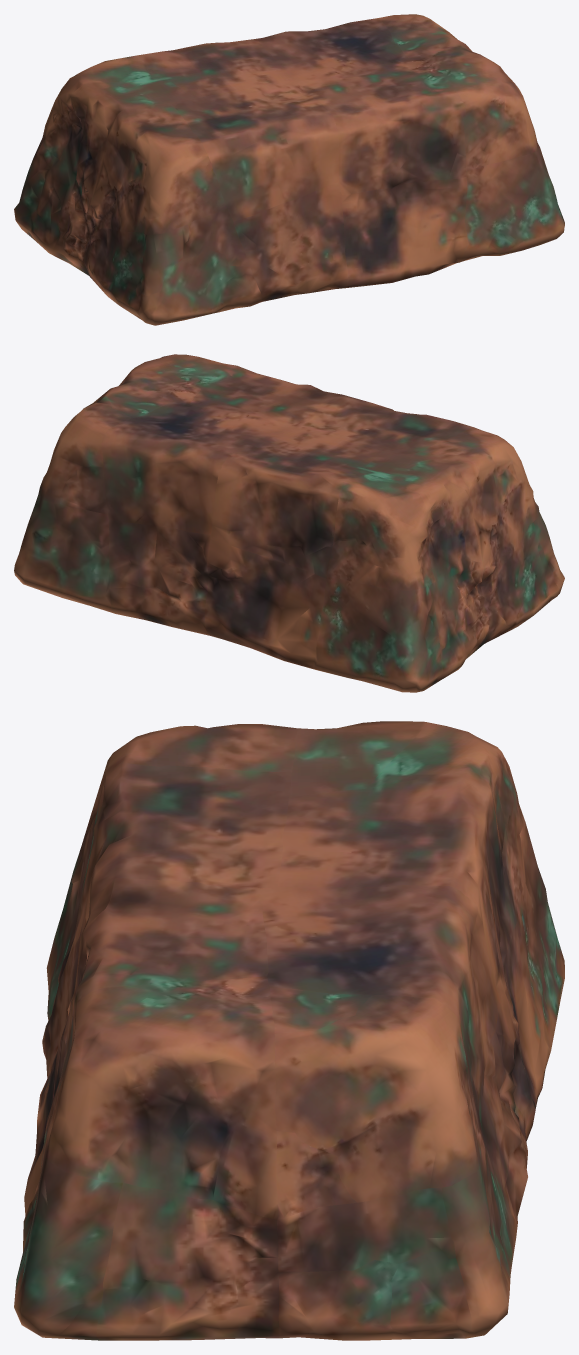
File: ingot.glb
3 renders of one model, top to bottom at view 1: azimuth 30°, elevation 25°; view 2: azimuth 150°, elevation 25°; view 3: azimuth 270°, elevation 25°, orthographic. The views are drawn at different scales.
Parts seen in each view (by area): view 1: tripo_node_cf13ad66-6565-4abb-837b-371d6a17ce30; view 2: tripo_node_cf13ad66-6565-4abb-837b-371d6a17ce30; view 3: tripo_node_cf13ad66-6565-4abb-837b-371d6a17ce30.
Part boxes in pixels (box(x1,y1,x2,y2)): tripo_node_cf13ad66-6565-4abb-837b-371d6a17ce30: box(14, 14, 564, 325); tripo_node_cf13ad66-6565-4abb-837b-371d6a17ce30: box(14, 354, 564, 692); tripo_node_cf13ad66-6565-4abb-837b-371d6a17ce30: box(14, 721, 564, 1340).
Bounding box in the file's own units: 0.9989 × 0.3993 × 0.6429.
Materials: 1 (1 with a texture image).
